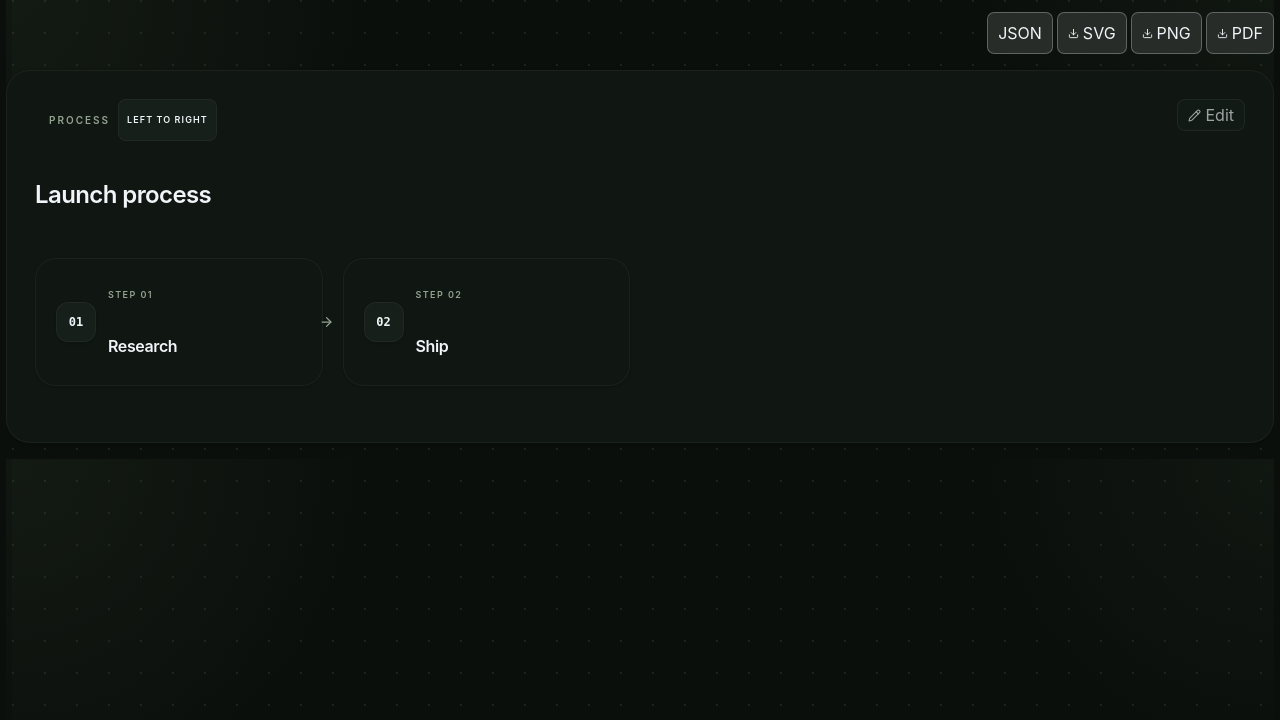
Test case: DeepSpace visual response formats › keeps infographic edits open and reports a rejected revision save
Click the button with aria-label "Edit infographic" at (1211,115), box [1178,99,1245,131]
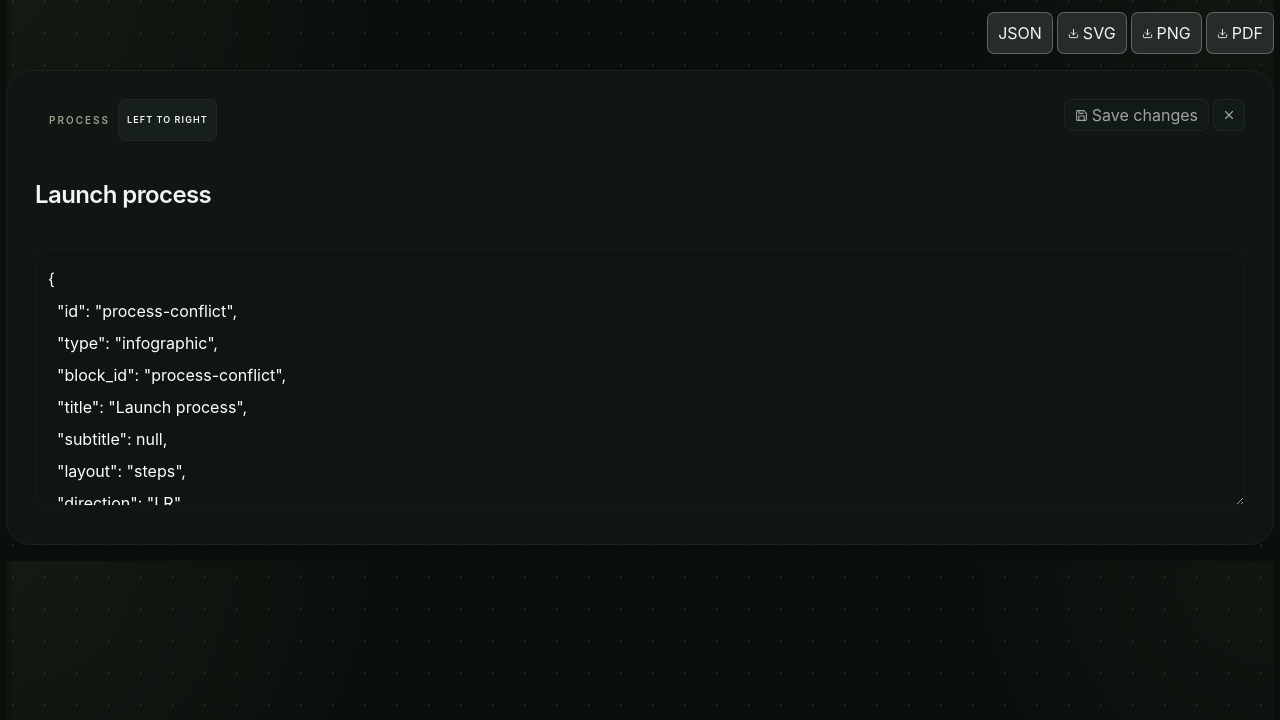
Click the button with aria-label "Save infographic" at (1136,115), box [1064,99,1209,131]
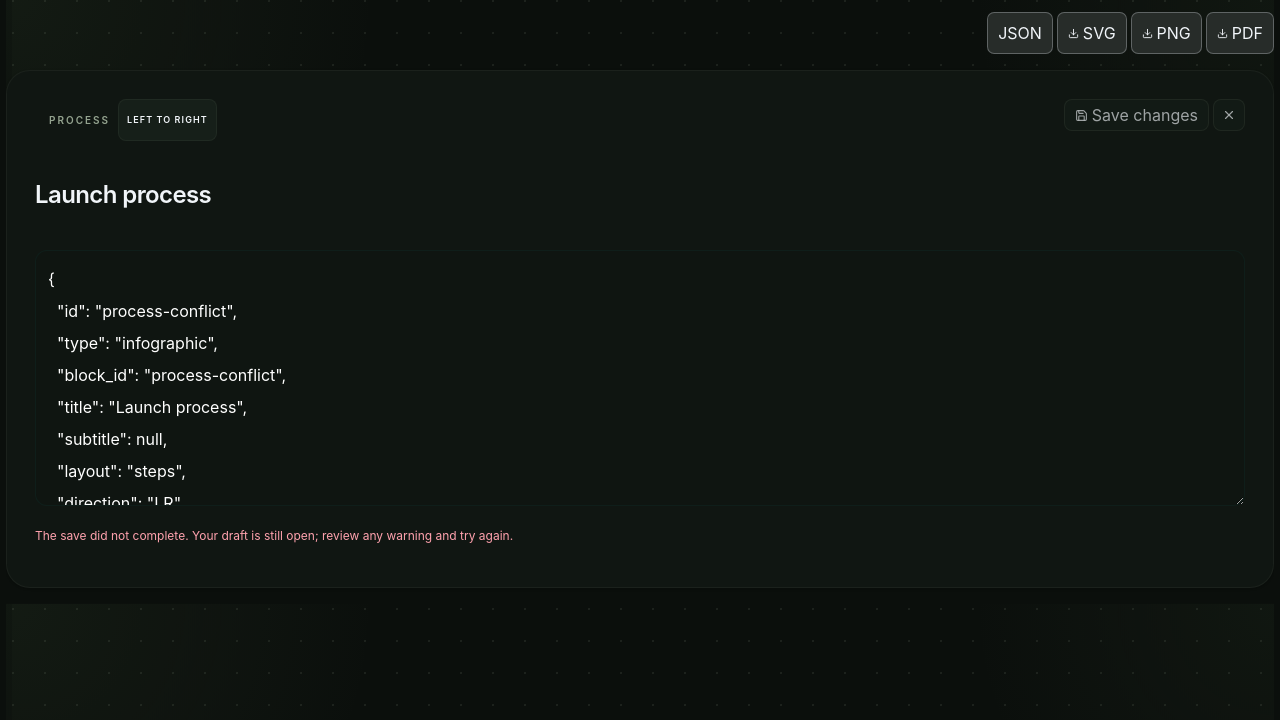
Now the text box named "Edit infographic fields as JSON" is shown, box [35,250,1245,506]
Now the message shows "Your draft is still open", box [35,528,513,543]
